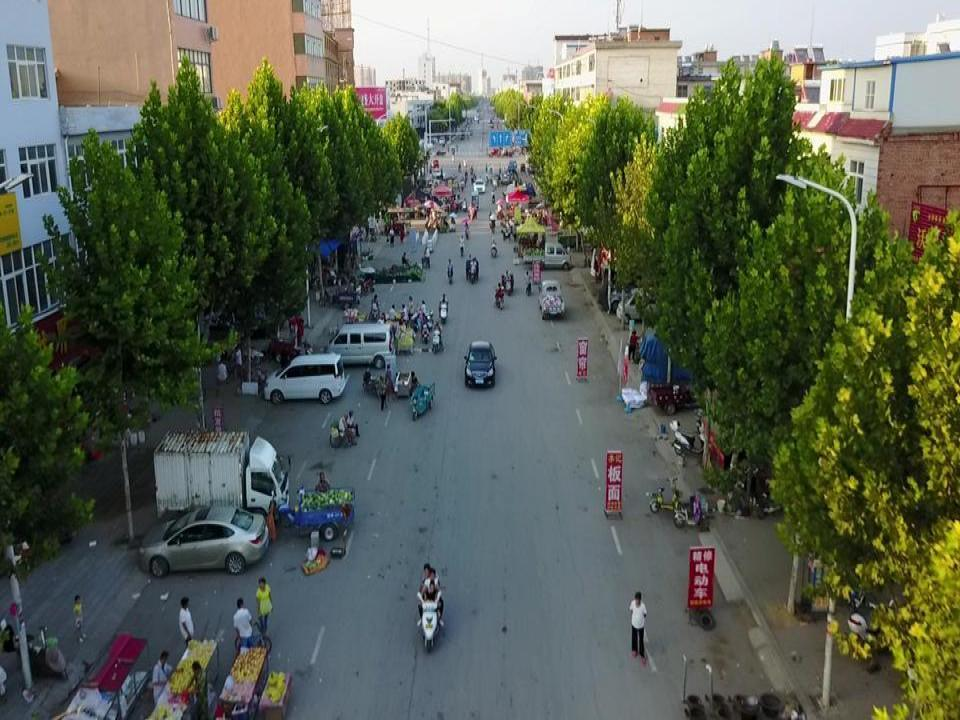car: (138, 504, 268, 575), (263, 352, 346, 404), (848, 595, 904, 668), (464, 340, 496, 389), (607, 283, 659, 312), (473, 180, 484, 193)
truck: (153, 428, 291, 531), (522, 243, 572, 270), (537, 280, 564, 320)
van: (324, 322, 395, 370), (616, 286, 670, 322)
